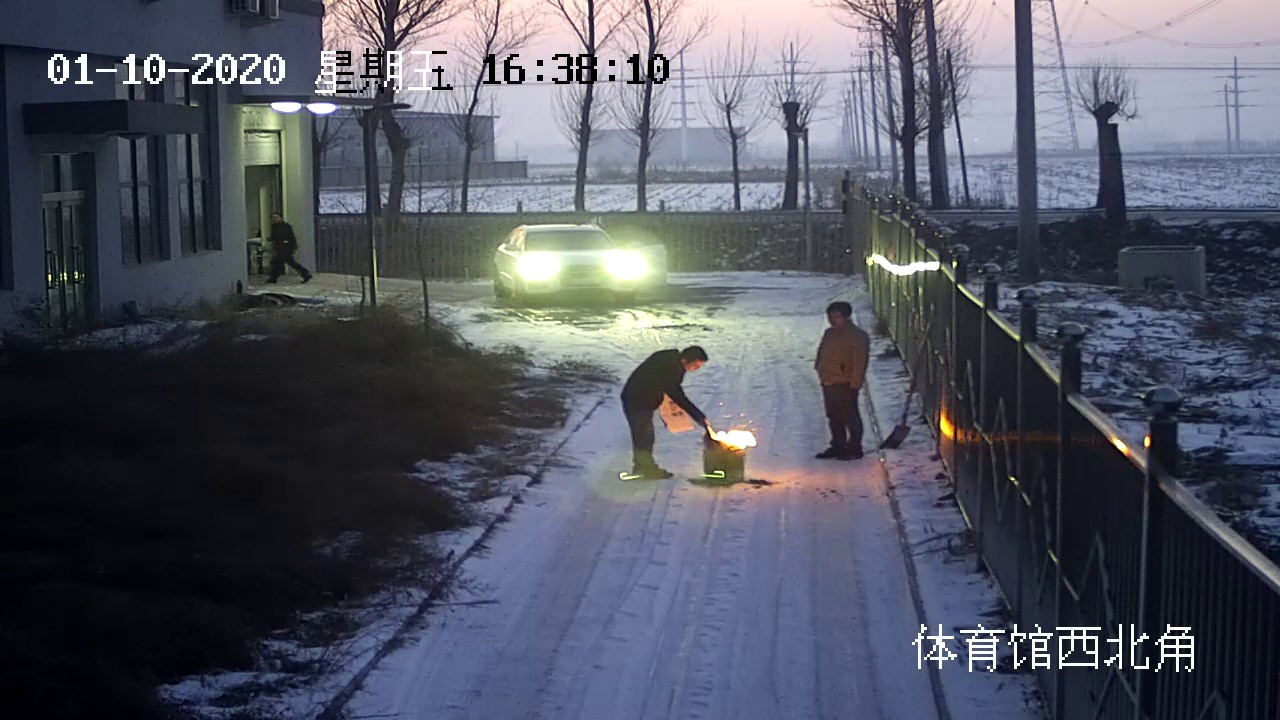fire: (709, 425, 760, 451)
